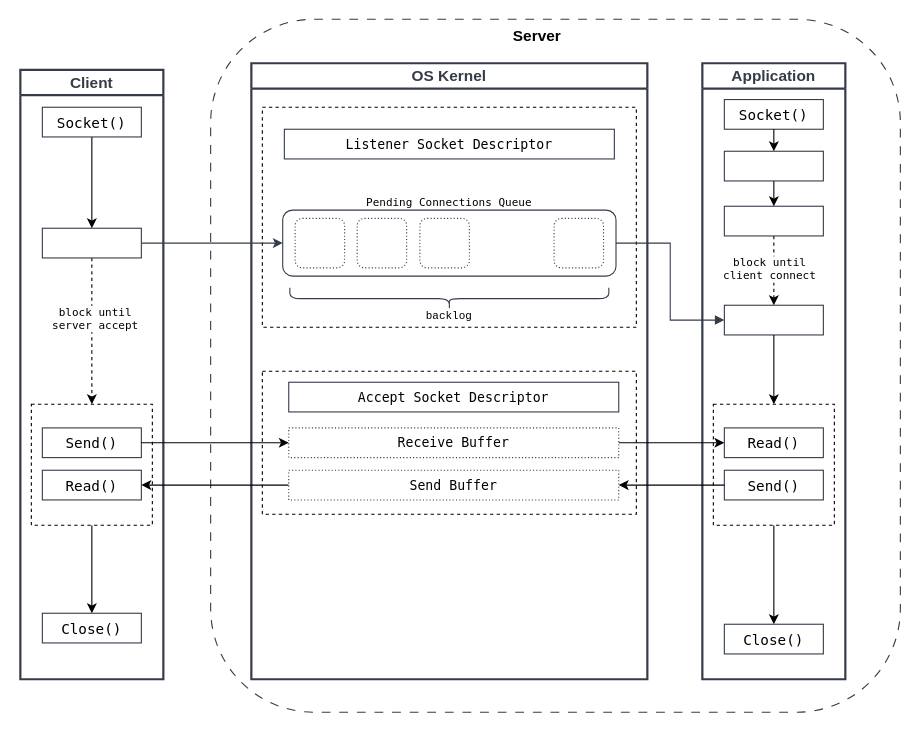
Image size: 920x732. Some labels were removed from this diagram. The shapes that lost their labels are listed below. From the top down, each one's centre as x and y in pixels, then its label:
At point 773,165: "Bind()".
At point 773,220: "Listen()".
At point 91,242: "Connect()".
At point 773,319: "Accept()".
